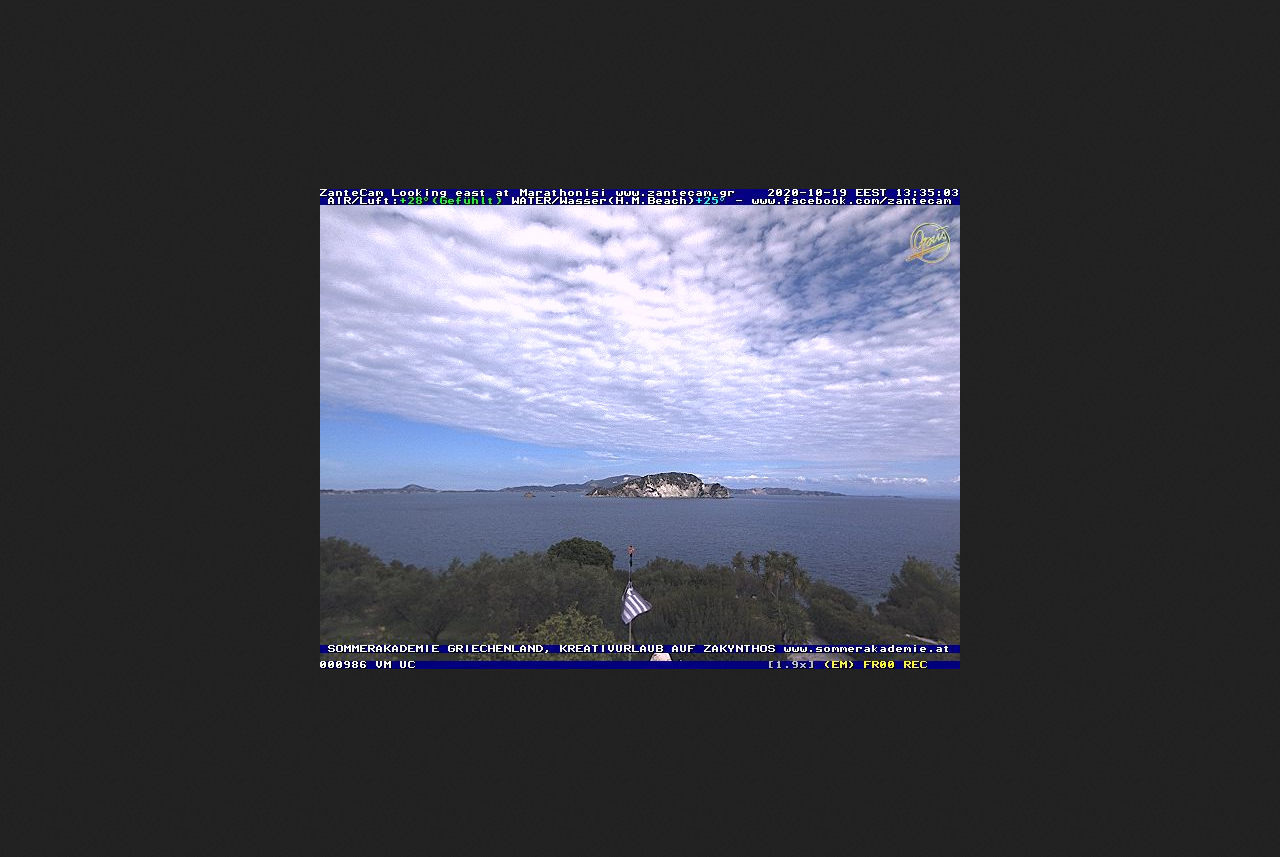maybe: (616, 579, 652, 626)
